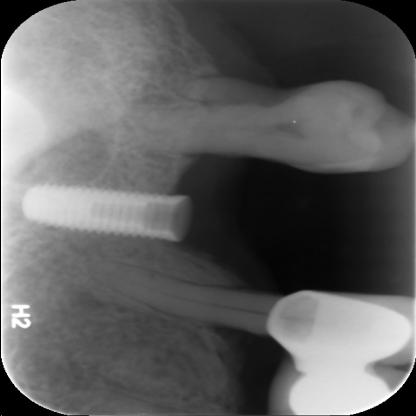Bego: (23, 175, 188, 247)
